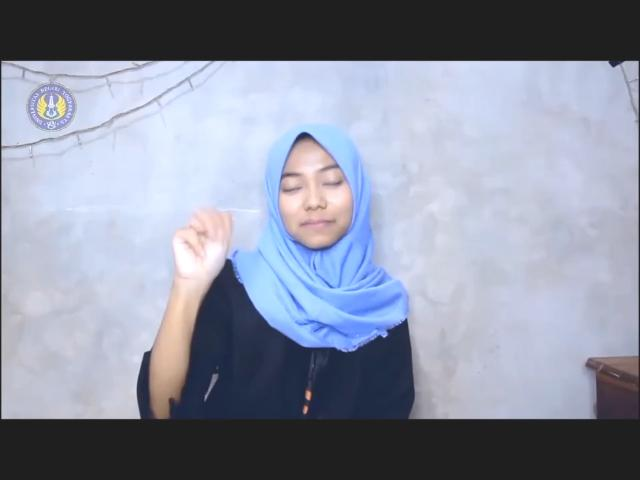N: (170, 207, 238, 283)
